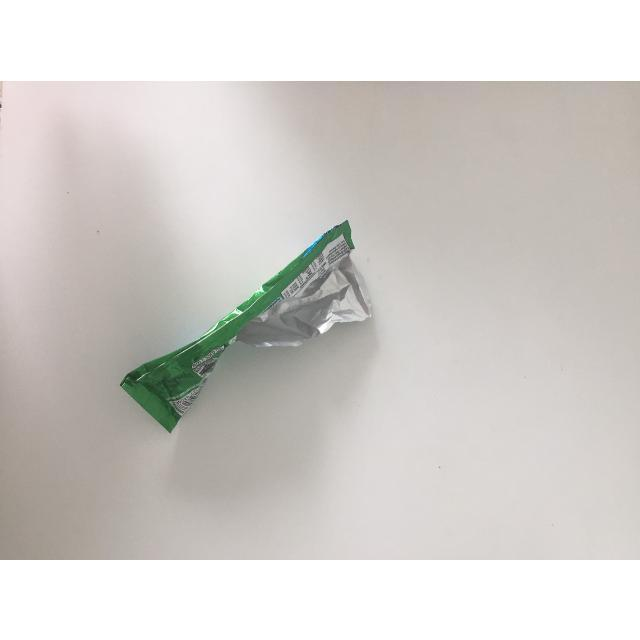Paquete de plastico: (111, 200, 402, 453)
